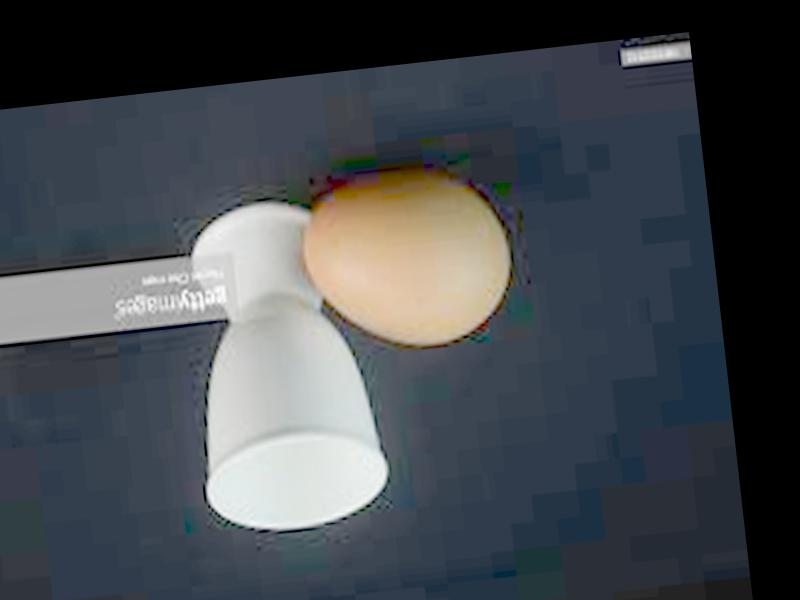Eggs: (295, 172, 515, 357)
